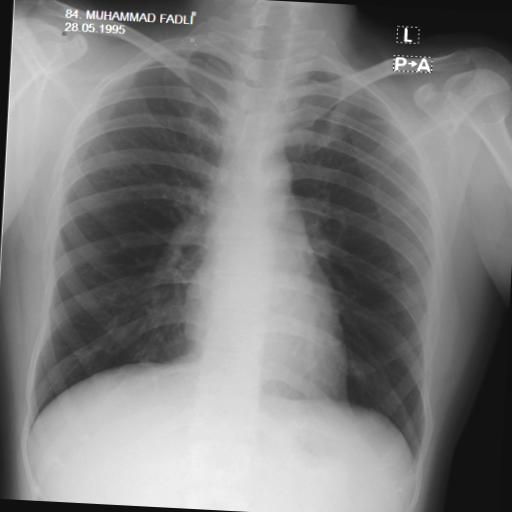normal: (12, 8, 455, 474)
